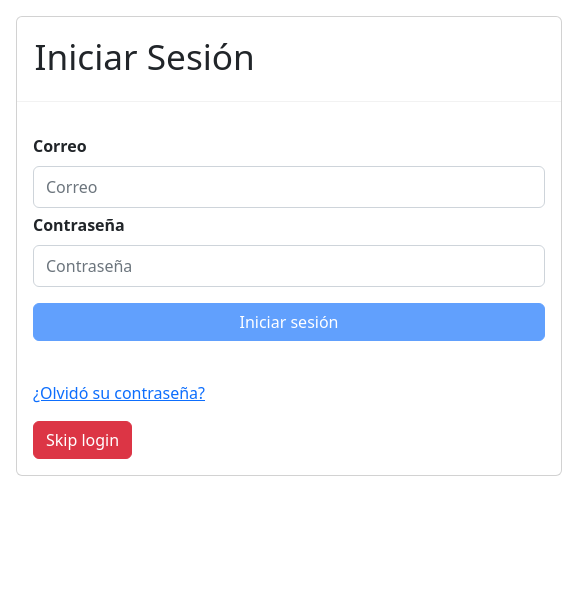
it: Login › New user needs to update password
In the field with placeholder "Correo": (289, 187) x1=33 y1=166 x2=545 y2=208, type "triton@example.com"
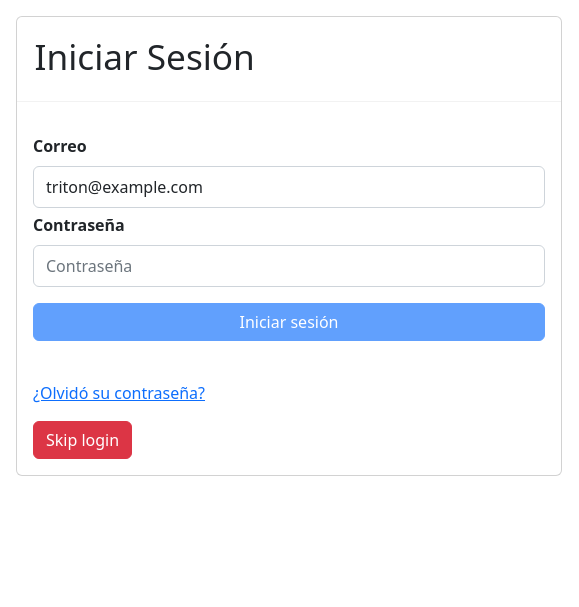
In the password field with placeholder "Contraseña": (289, 266) x1=33 y1=245 x2=545 y2=287, type "6MonkeysRLooking^"
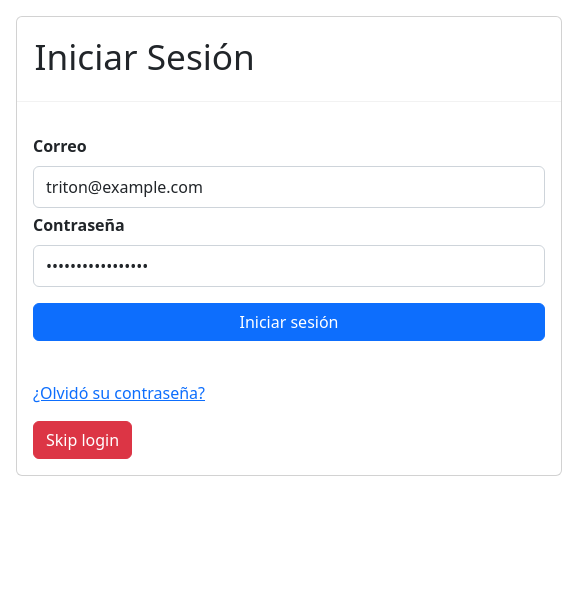
Click the button "Iniciar sesión": click(289, 322) x1=33 y1=303 x2=545 y2=341
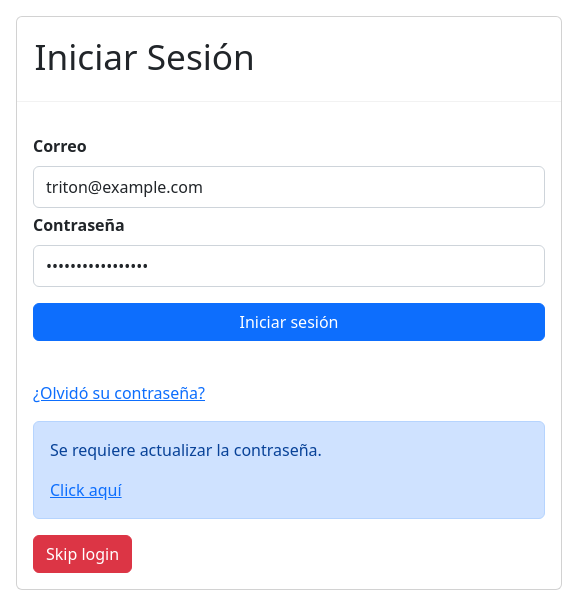
Result: the text "Se requiere actualizar la contraseña." is shown at x1=50 y1=439 x2=322 y2=461
